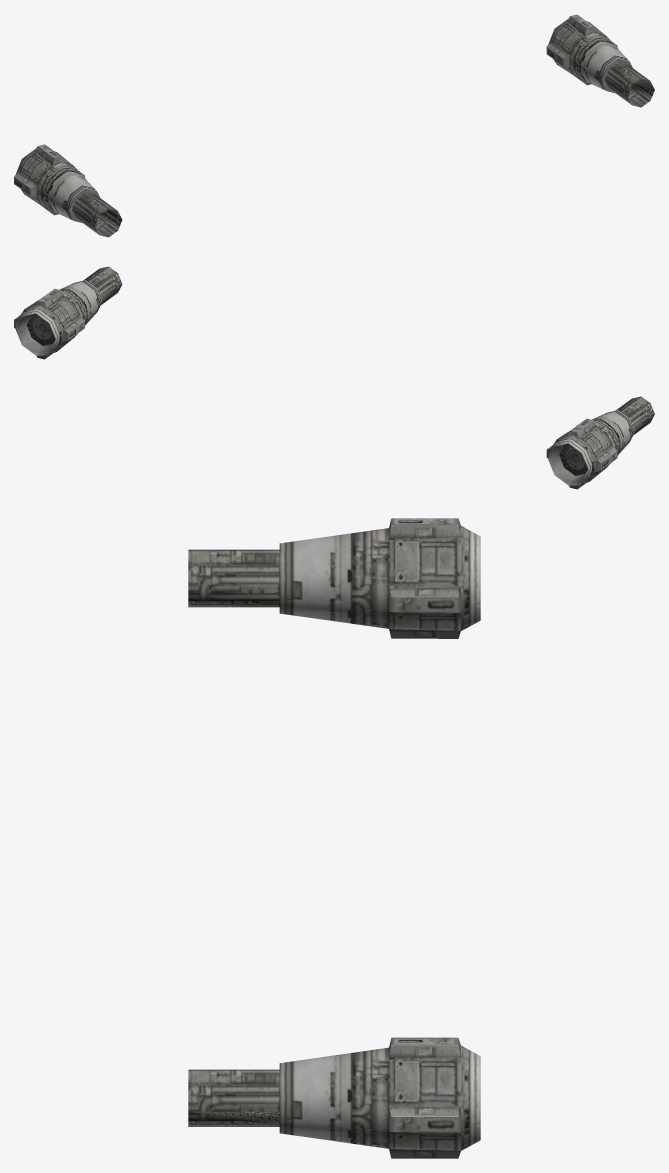
Rendered from ykl37r_booster_s02_l1.fbx.
3 views of the same model, one above another, from view 1: azimuth 30°, elevation 25°; view 2: azimuth 150°, elevation 25°; view 3: azimuth 270°, elevation 25° (orthographic). The views are drawn at different scales.
Visible parts, largest first — view 1: mesh_node; view 2: mesh_node; view 3: mesh_node.
Part boxes in pixels (x1,y1,x2,y2): mesh_node: (14, 14, 654, 237); mesh_node: (14, 266, 654, 489); mesh_node: (188, 518, 480, 1158).
Bounding box in the file's own units: 17.38 × 1.61 × 3.75.
Materials: 1 (1 with a texture image).
